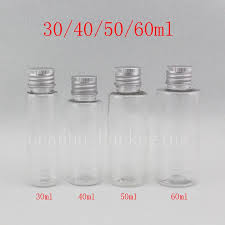available: (152, 58, 202, 191), (104, 64, 151, 189), (63, 70, 110, 189), (19, 62, 60, 190)
